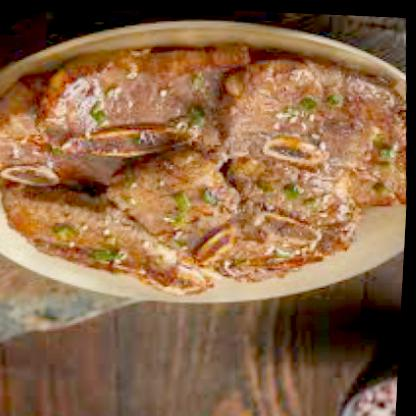Korean rib: (0, 28, 414, 308)
rice ball: (333, 356, 401, 415)
